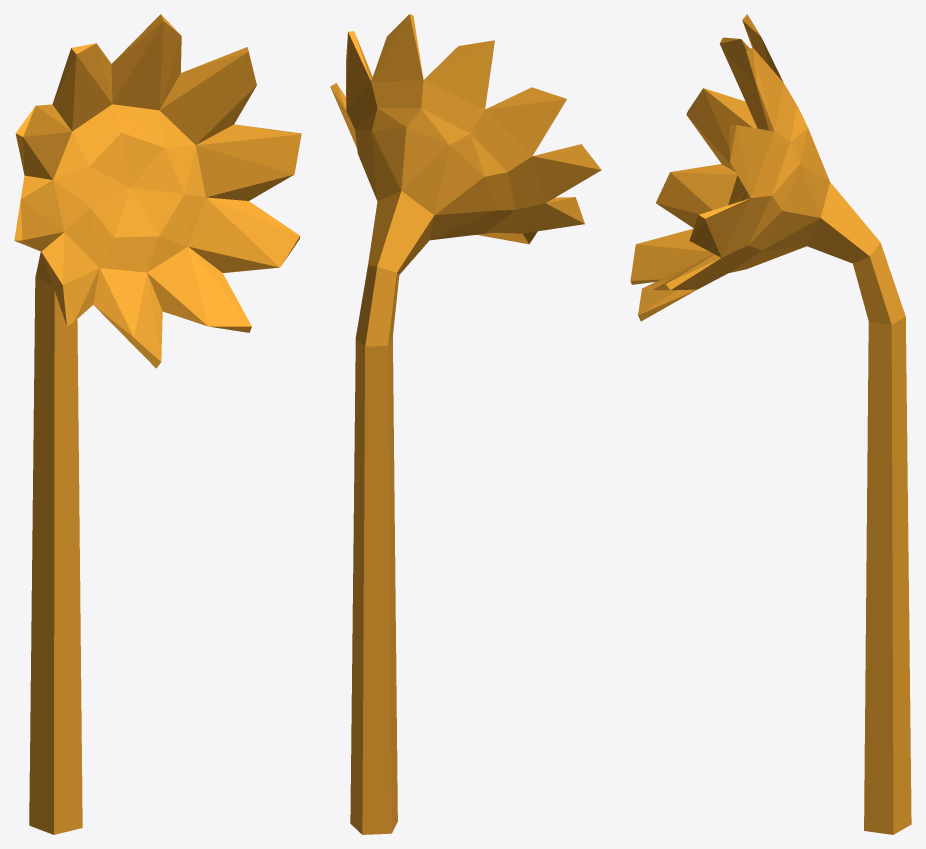
Rendered from SM_Sunflower_Flower_C.fbx.
3 views of the same model, side by side, from view 1: azimuth 30°, elevation 25°; view 2: azimuth 150°, elevation 25°; view 3: azimuth 270°, elevation 25° (orthographic). The views are drawn at different scales.
Parts seen in each view (by area): view 1: sunflower-flower-c; view 2: sunflower-flower-c; view 3: sunflower-flower-c.
Part boxes in pixels (<box>): sunflower-flower-c: <box>14,14,301,834</box>; sunflower-flower-c: <box>330,14,601,834</box>; sunflower-flower-c: <box>630,14,911,834</box>.
Bounding box in the file's own units: 0.2758 × 0.7584 × 0.2441.
